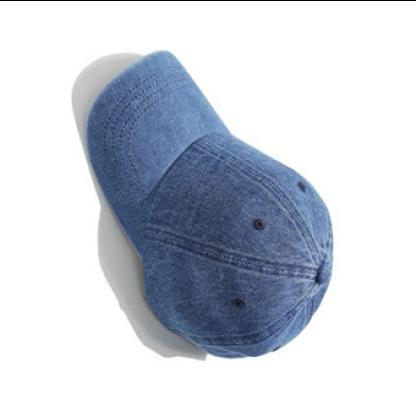cap: (78, 35, 344, 368)
